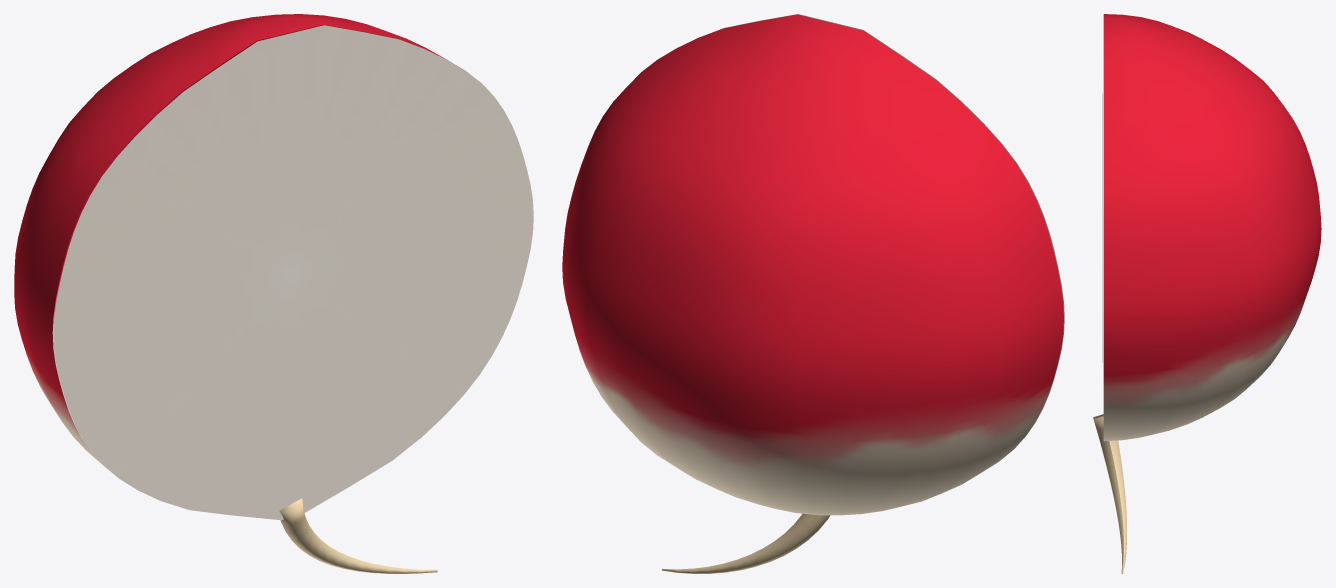
File: NP_Radish_CutHalf.fbx
3 renders of one model, left to right at view 1: azimuth 30°, elevation 25°; view 2: azimuth 150°, elevation 25°; view 3: azimuth 270°, elevation 25°, orthographic. The views are drawn at different scales.
Visible parts, largest first — view 1: NP_Radish_CutHalf.001; view 2: NP_Radish_CutHalf.001; view 3: NP_Radish_CutHalf.001.
Part boxes in pixels (box(x1,y1,x2,y2)): NP_Radish_CutHalf.001: box(14, 14, 533, 573); NP_Radish_CutHalf.001: box(562, 14, 1064, 573); NP_Radish_CutHalf.001: box(1093, 14, 1321, 573).
Bounding box in the file's own units: 36.3 × 42.36 × 18.24.
